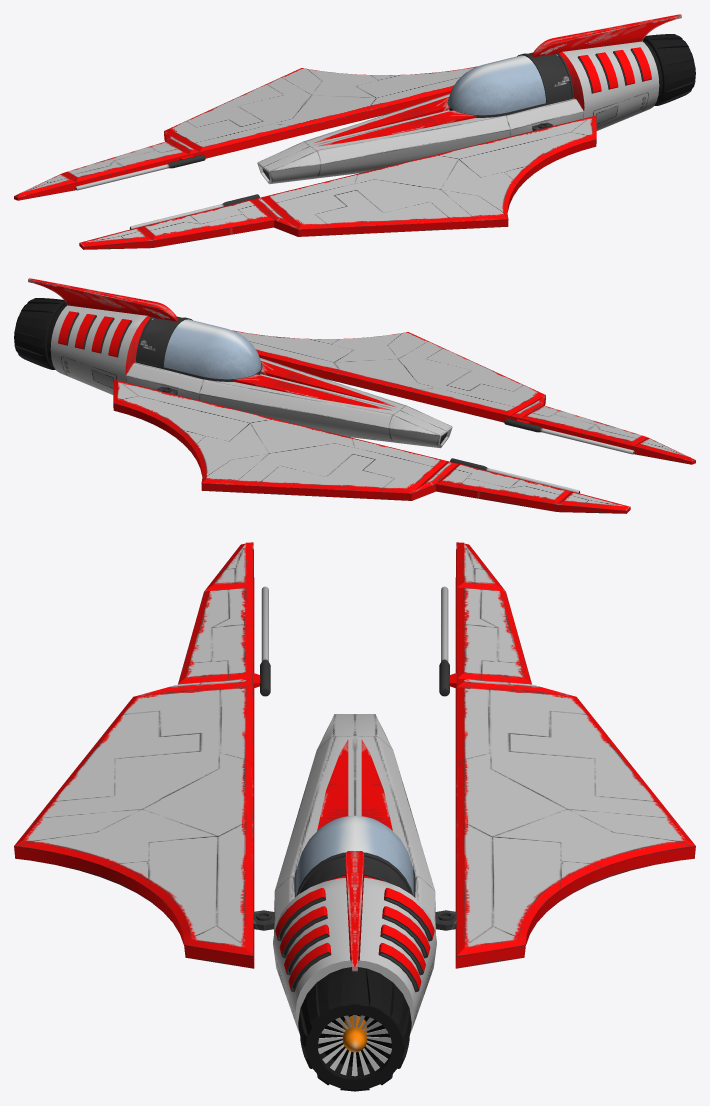
Rendered from FBX_Spaceship.fbx.
The picture shows the model from 3 angles, top to bottom: view 1: azimuth 30°, elevation 25°; view 2: azimuth 150°, elevation 25°; view 3: azimuth 270°, elevation 25°; orthographic projection. The views are drawn at different scales.
Visible parts, largest first — view 1: Starship-Part-Wings, Starship-Part-Body, Starship-Part-Engine-Bay, Starship-Part-Window, Starship-Part-Burner, Starship-Part-Fin, Starship-Part-Weapons, Starship-Part-Cockpit-Shell, Starship-Part-Window-Trim; view 2: Starship-Part-Wings, Starship-Part-Body, Starship-Part-Engine-Bay, Starship-Part-Window, Starship-Part-Burner, Starship-Part-Fin, Starship-Part-Weapons, Starship-Part-Cockpit-Shell, Starship-Part-Window-Trim; view 3: Starship-Part-Wings, Starship-Part-Engine-Bay, Starship-Part-Body, Starship-Part-Burner, Starship-Part-Window, Starship-Part-Burner-Fan-Blades, Starship-Part-Weapons, Starship-Part-Fin, Starship-Part-Cockpit-Shell, Starship-Part-Window-Trim.
Part boxes in pixels (x1,y1,x2,y2): Starship-Part-Wings: (14, 66, 596, 249); Starship-Part-Body: (257, 94, 583, 184); Starship-Part-Engine-Bay: (559, 41, 659, 130); Starship-Part-Window: (448, 55, 545, 115); Starship-Part-Burner: (642, 34, 695, 105); Starship-Part-Fin: (531, 14, 681, 57); Starship-Part-Weapons: (75, 154, 259, 229); Starship-Part-Cockpit-Shell: (528, 52, 571, 101); Starship-Part-Window-Trim: (447, 52, 573, 117); Starship-Part-Wings: (113, 330, 695, 513); Starship-Part-Body: (126, 358, 452, 448); Starship-Part-Engine-Bay: (50, 305, 150, 394); Starship-Part-Window: (164, 319, 261, 379); Starship-Part-Burner: (14, 298, 67, 369); Starship-Part-Fin: (28, 278, 178, 321); Starship-Part-Weapons: (450, 418, 634, 493); Starship-Part-Cockpit-Shell: (138, 316, 181, 365); Starship-Part-Window-Trim: (136, 316, 262, 381); Starship-Part-Wings: (14, 542, 695, 968); Starship-Part-Engine-Bay: (273, 876, 436, 1032); Starship-Part-Body: (274, 714, 435, 933); Starship-Part-Burner: (298, 967, 411, 1091); Starship-Part-Window: (296, 815, 413, 895); Starship-Part-Burner-Fan-Blades: (318, 1015, 391, 1076); Starship-Part-Weapons: (260, 586, 449, 696); Starship-Part-Fin: (345, 851, 364, 971); Starship-Part-Cockpit-Shell: (300, 857, 409, 893); Starship-Part-Window-Trim: (294, 852, 415, 897).
Size of the model in its own units: 190 by 28.1 by 108.
